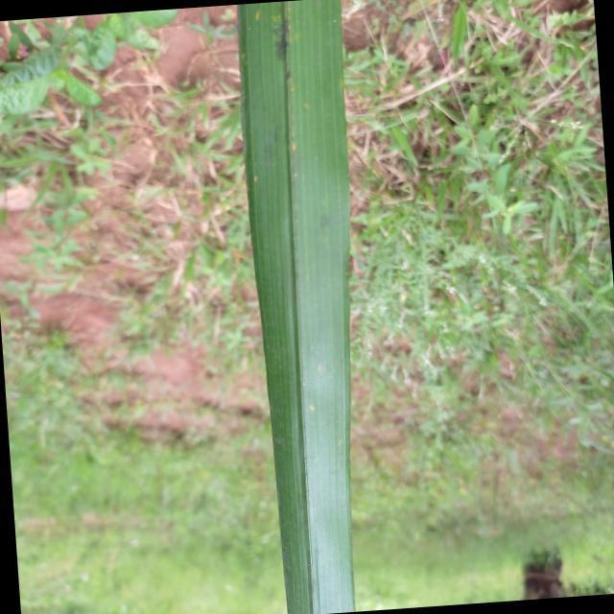Kalium: (242, 0, 356, 614)
